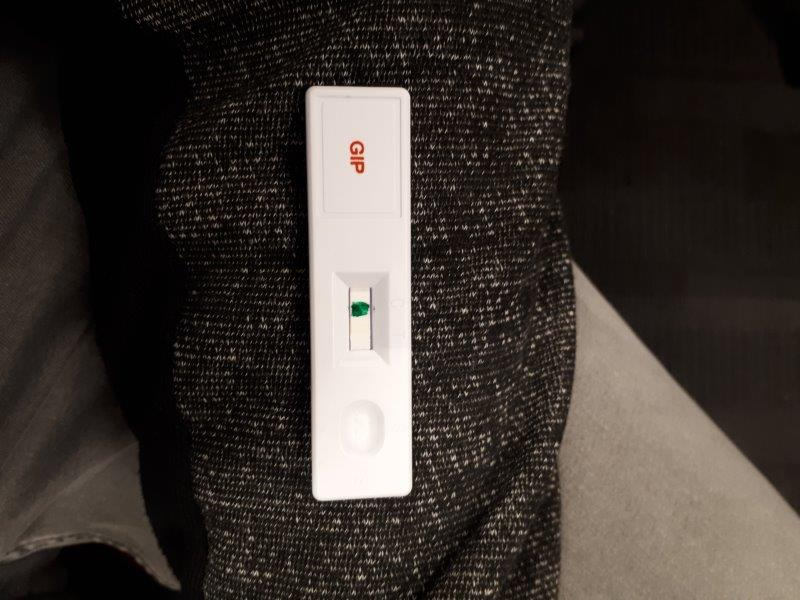Negative: (305, 86, 415, 503)
